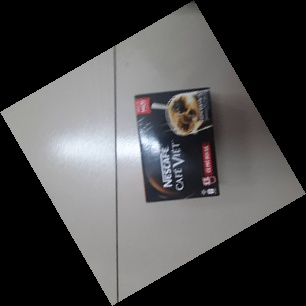CF Viet: (131, 88, 222, 206)
